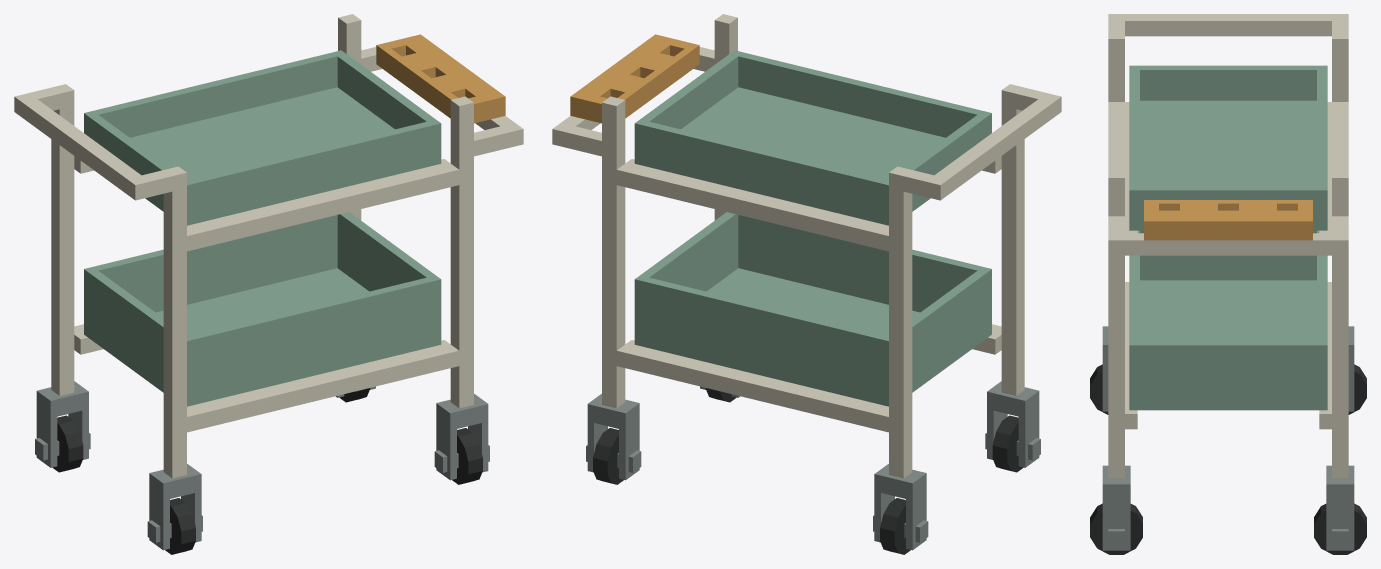
The picture shows the model from 3 angles, left to right: view 1: azimuth 30°, elevation 25°; view 2: azimuth 150°, elevation 25°; view 3: azimuth 270°, elevation 25°; orthographic projection.
Visible parts, largest first — view 1: LowerDeepContinuousBasin, UpperShallowContinuousBasin, FullHeightUpright_1_1, LowerDeepFullBearingRail_Front, UpperShallowFullBearingRail_Front, FullHeightUpright_2_1, FullHeightUpright_1_2, IndependentThreeSlotToolHolder, WholeContinuousPushHandle, FixedWheelGroup_1_2_WholeBoredFork, FixedWheelGroup_2_1_WholeBoredFork, FixedWheelGroup_1_1_WholeBoredFork (+5 smaller); view 2: LowerDeepContinuousBasin, UpperShallowContinuousBasin, FullHeightUpright_1_2, LowerDeepFullBearingRail_Back, UpperShallowFullBearingRail_Back, FullHeightUpright_2_2, FullHeightUpright_1_1, IndependentThreeSlotToolHolder, WholeContinuousPushHandle, FixedWheelGroup_1_1_WholeBoredFork, FixedWheelGroup_2_2_WholeBoredFork, FixedWheelGroup_1_2_WholeBoredFork (+5 smaller); view 3: LowerDeepContinuousBasin, UpperShallowContinuousBasin, IndependentThreeSlotToolHolder, WholeContinuousPushHandle, WholeIndependentSideSupportBracket, FullHeightUpright_2_1, FullHeightUpright_2_2, FixedWheelGroup_2_1_WholeBoredFork, FixedWheelGroup_2_2_WholeBoredFork, UpperShallowFullBearingRail_Back, UpperShallowFullBearingRail_Front, FullHeightUpright_1_1 (+9 smaller).
Part boxes in pixels (x1=…): LowerDeepContinuousBasin: x1=84, y1=212, x2=441, y2=406; UpperShallowContinuousBasin: x1=84, y1=50, x2=441, y2=225; FullHeightUpright_1_1: x1=163, y1=166, x2=186, y2=478; LowerDeepFullBearingRail_Front: x1=187, y1=340, x2=459, y2=432; UpperShallowFullBearingRail_Front: x1=187, y1=159, x2=459, y2=251; FullHeightUpright_2_1: x1=450, y1=96, x2=473, y2=408; FullHeightUpright_1_2: x1=51, y1=84, x2=74, y2=395; IndependentThreeSlotToolHolder: x1=376, y1=34, x2=505, y2=123; WholeContinuousPushHandle: x1=14, y1=87, x2=172, y2=200; FixedWheelGroup_1_2_WholeBoredFork: x1=36, y1=381, x2=88, y2=467; FixedWheelGroup_2_1_WholeBoredFork: x1=436, y1=394, x2=488, y2=480; FixedWheelGroup_1_1_WholeBoredFork: x1=149, y1=464, x2=201, y2=550; LowerDeepContinuousBasin: x1=634, y1=212, x2=991, y2=406; UpperShallowContinuousBasin: x1=634, y1=50, x2=991, y2=225; FullHeightUpright_1_2: x1=889, y1=166, x2=912, y2=478; LowerDeepFullBearingRail_Back: x1=616, y1=340, x2=888, y2=432; UpperShallowFullBearingRail_Back: x1=616, y1=159, x2=888, y2=251; FullHeightUpright_2_2: x1=602, y1=96, x2=625, y2=408; FullHeightUpright_1_1: x1=1001, y1=84, x2=1024, y2=395; IndependentThreeSlotToolHolder: x1=570, y1=34, x2=699, y2=123; WholeContinuousPushHandle: x1=903, y1=87, x2=1061, y2=200; FixedWheelGroup_1_1_WholeBoredFork: x1=987, y1=381, x2=1039, y2=467; FixedWheelGroup_2_2_WholeBoredFork: x1=587, y1=394, x2=639, y2=480; FixedWheelGroup_1_2_WholeBoredFork: x1=874, y1=464, x2=926, y2=550; LowerDeepContinuousBasin: x1=1129, y1=230, x2=1327, y2=410; UpperShallowContinuousBasin: x1=1129, y1=65, x2=1327, y2=230; IndependentThreeSlotToolHolder: x1=1144, y1=200, x2=1312, y2=240; WholeContinuousPushHandle: x1=1108, y1=14, x2=1348, y2=36; WholeIndependentSideSupportBracket: x1=1108, y1=216, x2=1348, y2=255; FullHeightUpright_2_1: x1=1108, y1=171, x2=1124, y2=478; FullHeightUpright_2_2: x1=1332, y1=171, x2=1348, y2=478; FixedWheelGroup_2_1_WholeBoredFork: x1=1102, y1=465, x2=1130, y2=550; FixedWheelGroup_2_2_WholeBoredFork: x1=1326, y1=465, x2=1354, y2=550; UpperShallowFullBearingRail_Back: x1=1319, y1=102, x2=1348, y2=233; UpperShallowFullBearingRail_Front: x1=1108, y1=102, x2=1137, y2=233; FullHeightUpright_1_1: x1=1108, y1=32, x2=1124, y2=101.
Bounding box in the file's own units: 1.05 × 0.985 × 0.6556.
